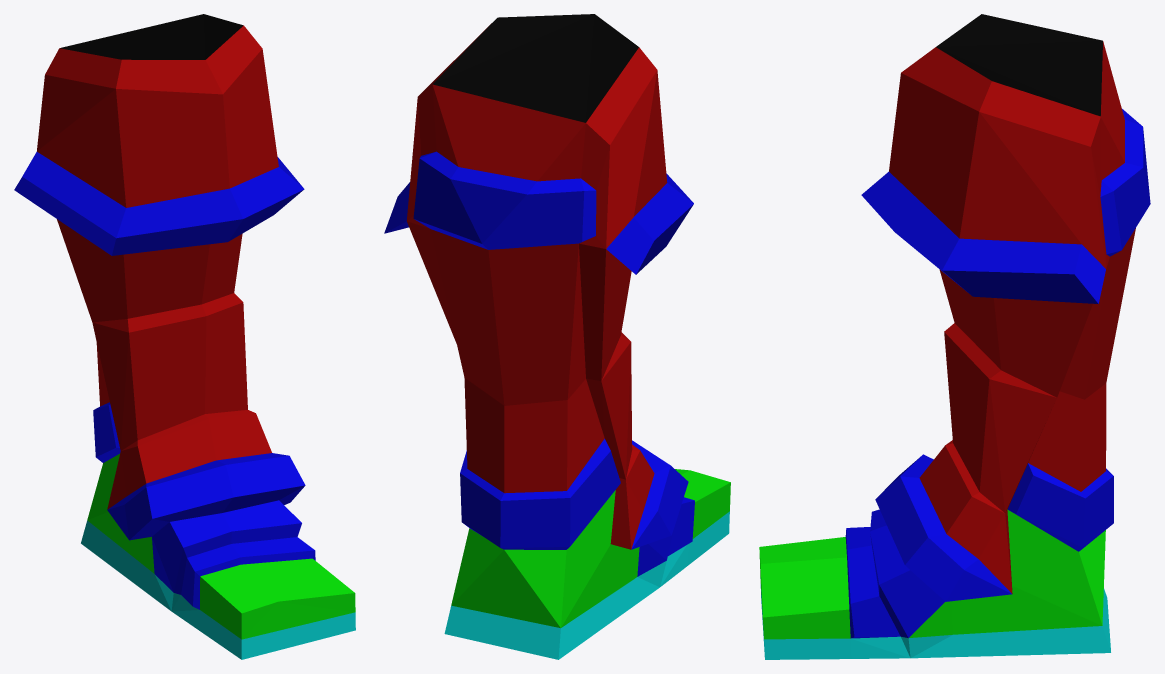
Rendered from Chr_LegRight_Male_Static_06.fbx.
3 views of the same model, side by side, from view 1: azimuth 30°, elevation 25°; view 2: azimuth 150°, elevation 25°; view 3: azimuth 270°, elevation 25° (orthographic). The views are drawn at different scales.
Visible parts, largest first — view 1: Chr_LegRight_Male_06; view 2: Chr_LegRight_Male_06; view 3: Chr_LegRight_Male_06.
Part boxes in pixels (x1,y1,x2,y2): Chr_LegRight_Male_06: (14,14,355,659); Chr_LegRight_Male_06: (384,14,730,659); Chr_LegRight_Male_06: (759,14,1150,659).
Size of the model in its own units: 19.14 by 40.48 by 24.96.
